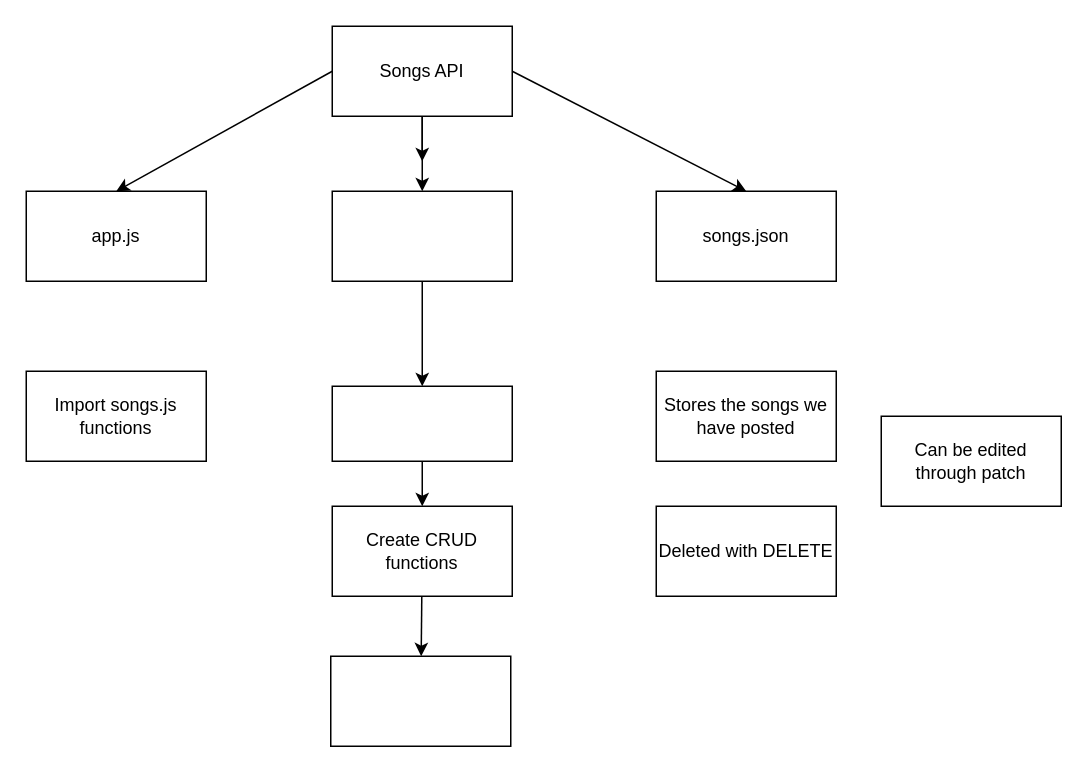
Some shapes in this 1088 by 773 pixel diagram are drawn without their labels. The shapes that lost their labels are listed below. From the top down, each one's centre as x and y in pixels, then its label:
[421,235]: SPRINT 1: songs.js
[421,423]: Import fucntionality dependencies
